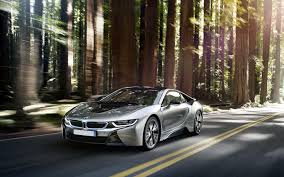car: (57, 83, 206, 151)
